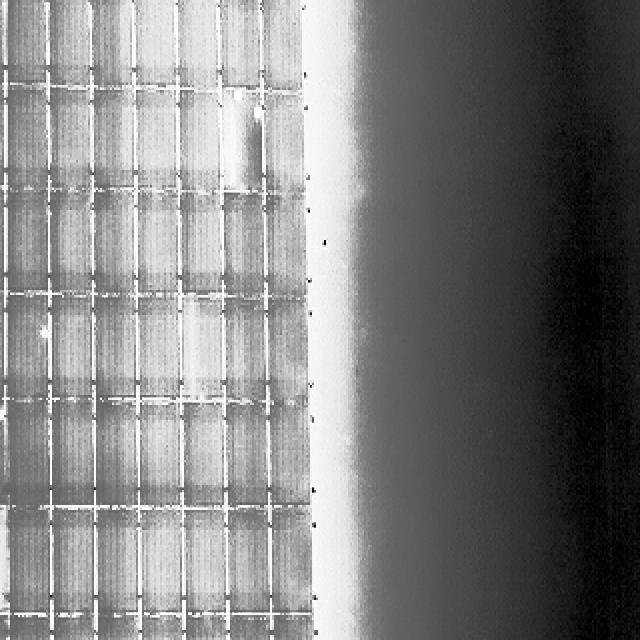Hotspots: (252, 102, 266, 120), (37, 325, 51, 343), (231, 90, 245, 103), (0, 408, 6, 422)
PV-modules: (180, 196, 233, 302), (51, 398, 102, 508), (8, 400, 56, 510), (8, 509, 56, 618), (223, 510, 270, 617), (138, 509, 184, 617), (91, 510, 137, 618), (89, 400, 134, 510), (222, 400, 267, 509), (51, 509, 96, 618), (256, 92, 303, 196), (219, 294, 264, 402), (266, 301, 310, 410), (93, 188, 137, 296), (136, 400, 180, 507), (268, 508, 312, 615), (4, 295, 49, 399), (268, 404, 313, 508), (182, 294, 226, 400), (135, 188, 179, 294), (184, 510, 228, 616), (136, 296, 180, 401), (4, 86, 48, 191), (265, 196, 308, 303), (94, 298, 138, 402), (4, 188, 48, 292), (92, 91, 137, 192), (178, 90, 222, 193), (224, 192, 267, 297), (49, 190, 92, 295), (134, 89, 178, 191), (48, 88, 92, 190), (48, 296, 92, 398), (184, 406, 226, 511), (220, 91, 263, 193), (4, 0, 54, 84), (216, 1, 262, 92), (45, 2, 92, 89), (86, 0, 132, 88), (132, 1, 177, 90), (262, 1, 305, 94), (176, 2, 220, 92), (268, 612, 314, 640), (136, 615, 182, 640), (50, 617, 98, 640), (184, 617, 230, 640), (90, 617, 136, 640), (224, 617, 270, 640), (6, 617, 50, 640), (0, 397, 8, 505), (0, 0, 8, 82), (0, 185, 6, 290), (0, 85, 6, 187), (0, 508, 4, 618), (0, 292, 4, 400), (0, 612, 8, 640)
